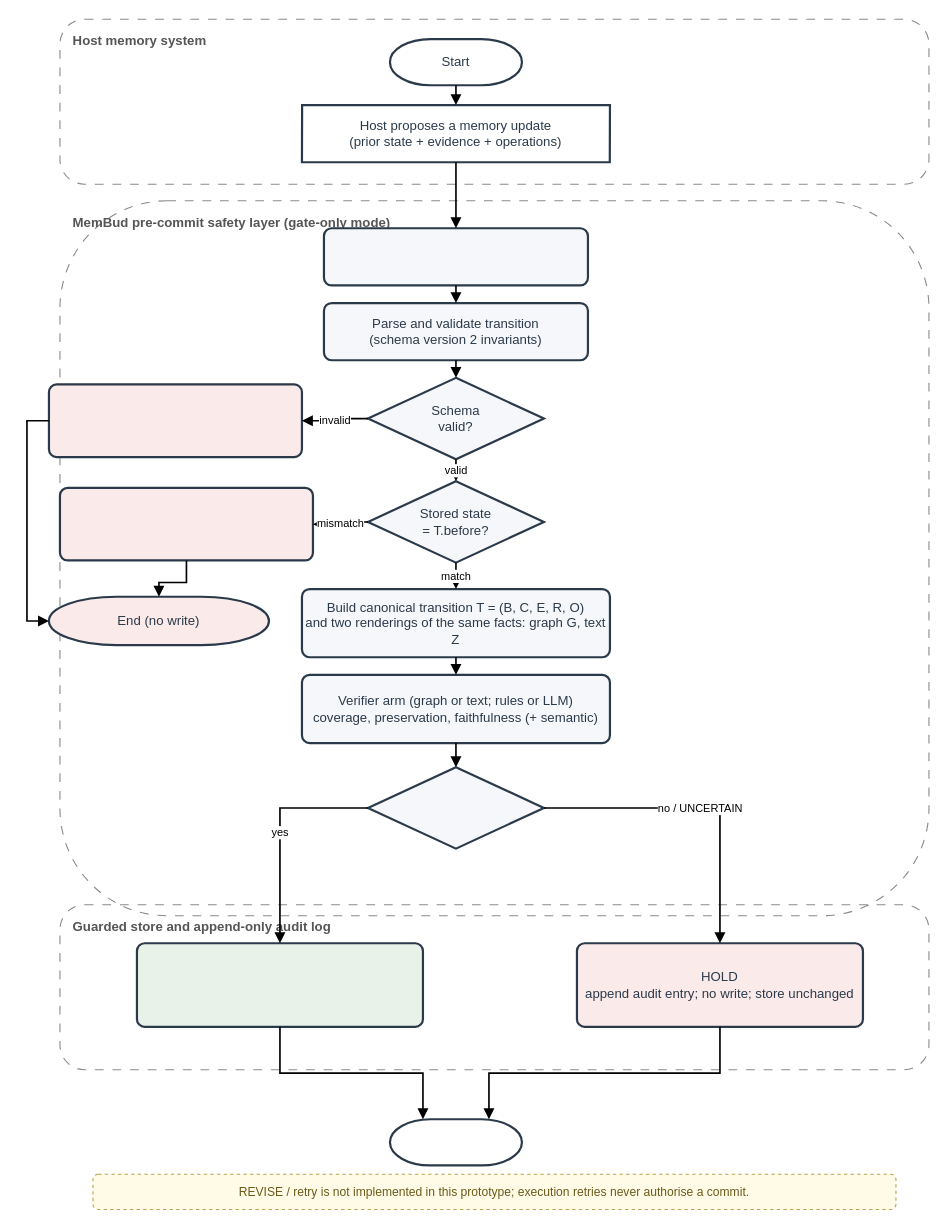
Some shapes in this 949 by 1229 pixel diagram are drawn without their labels. Each missing label, with the centre of its shape:
"ACCEPT append audit entry; atomic write (temp, fsync, rename), version + 1" belongs at (x=279, y=984).
"Adapter snapshot(scope) returns canonical prior records" belongs at (x=455, y=256).
"All required checks PASS?" belongs at (x=455, y=807).
"End" belongs at (x=455, y=1142).
"Fail closed; log audit error (no verification, no write)" belongs at (x=186, y=523).
"INVALID_INPUT record for every arm no verification, no write" belongs at (x=174, y=420).
